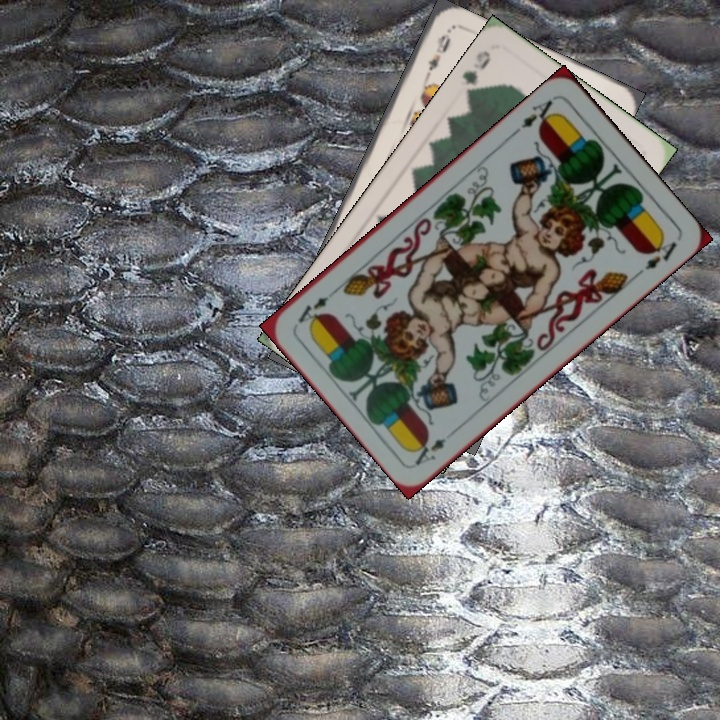E9: (420, 29, 454, 83)
EA: (409, 424, 460, 469), (510, 96, 560, 137)
G9: (457, 46, 494, 102)
